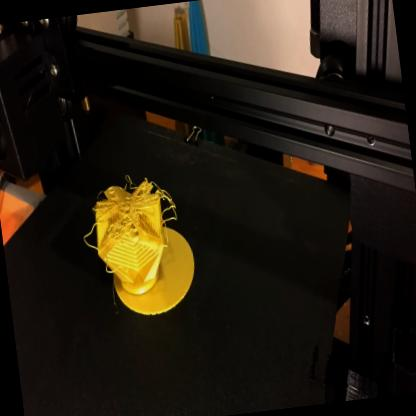fail: (74, 166, 182, 262)
